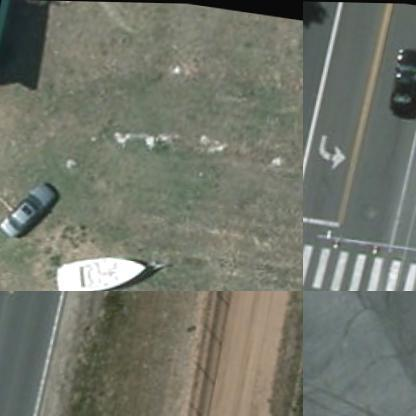boat: (56, 232, 161, 290)
car: (0, 173, 69, 246), (389, 45, 415, 109)
